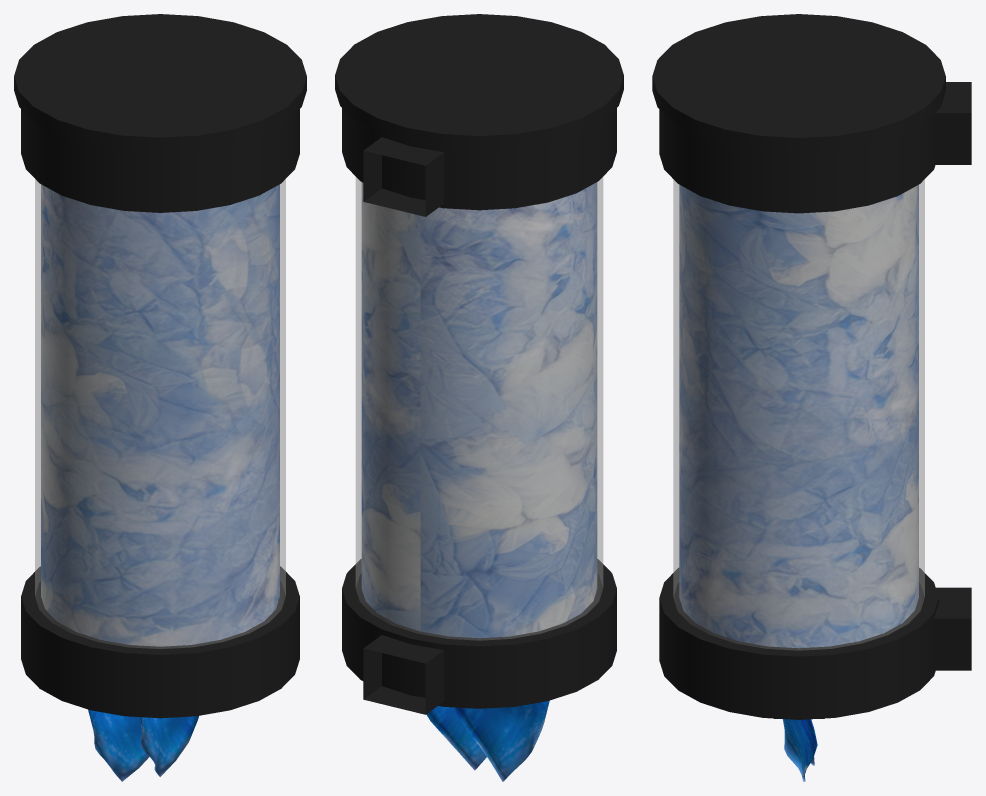
Rendered from bahily.fbx.
The picture shows the model from 3 angles, left to right: view 1: azimuth 30°, elevation 25°; view 2: azimuth 150°, elevation 25°; view 3: azimuth 270°, elevation 25°; orthographic projection.
Visible parts, largest first — view 1: Cylinder.004; view 2: Cylinder.004; view 3: Cylinder.004.
Part boxes in pixels (x1,y1,x2,y2): Cylinder.004: (14, 14, 306, 781); Cylinder.004: (335, 14, 623, 781); Cylinder.004: (652, 14, 971, 781).
Bounding box in the file's own units: 21 × 55.68 × 22.85.
